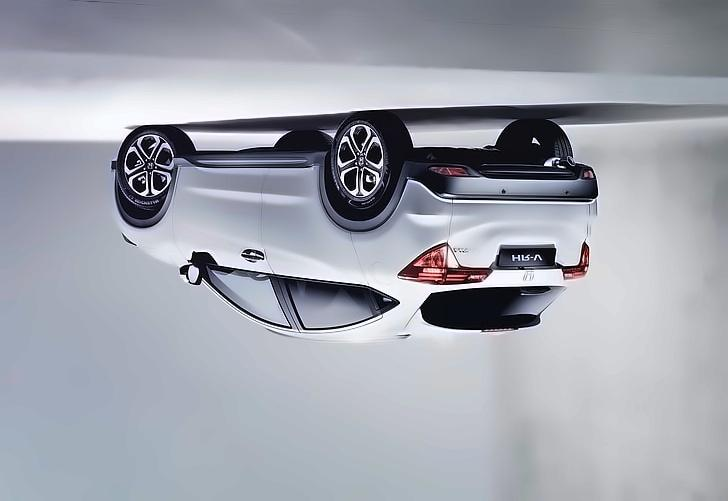Car boot: (443, 188, 592, 332)
Driver-s door - -F-R-: (173, 141, 294, 344)
Fender - -F-R-: (111, 162, 183, 267)
Fender - -R-R-: (348, 178, 451, 351)
Passenger-s door - -R-R-: (260, 143, 395, 347)
Rear bumper: (403, 143, 605, 208)
Rear light - -L-: (561, 241, 593, 279)
Rear light - -R-: (398, 241, 490, 285)
Side bumper - -R-: (171, 143, 324, 188)
Side mirror - -R-: (180, 259, 207, 287)
